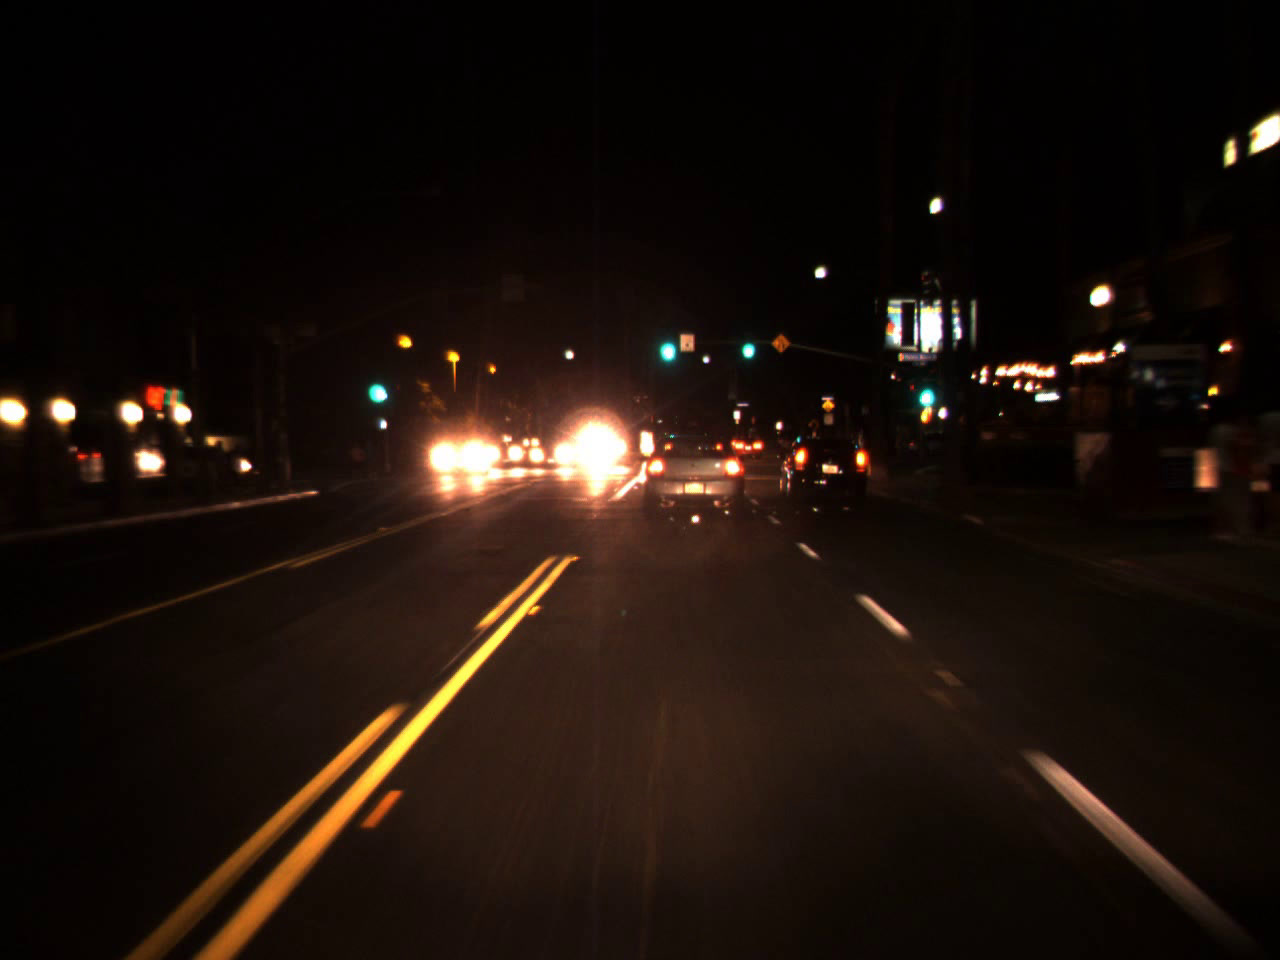go: (362, 362, 389, 410), (912, 366, 937, 414), (655, 320, 678, 368), (737, 327, 756, 360)
